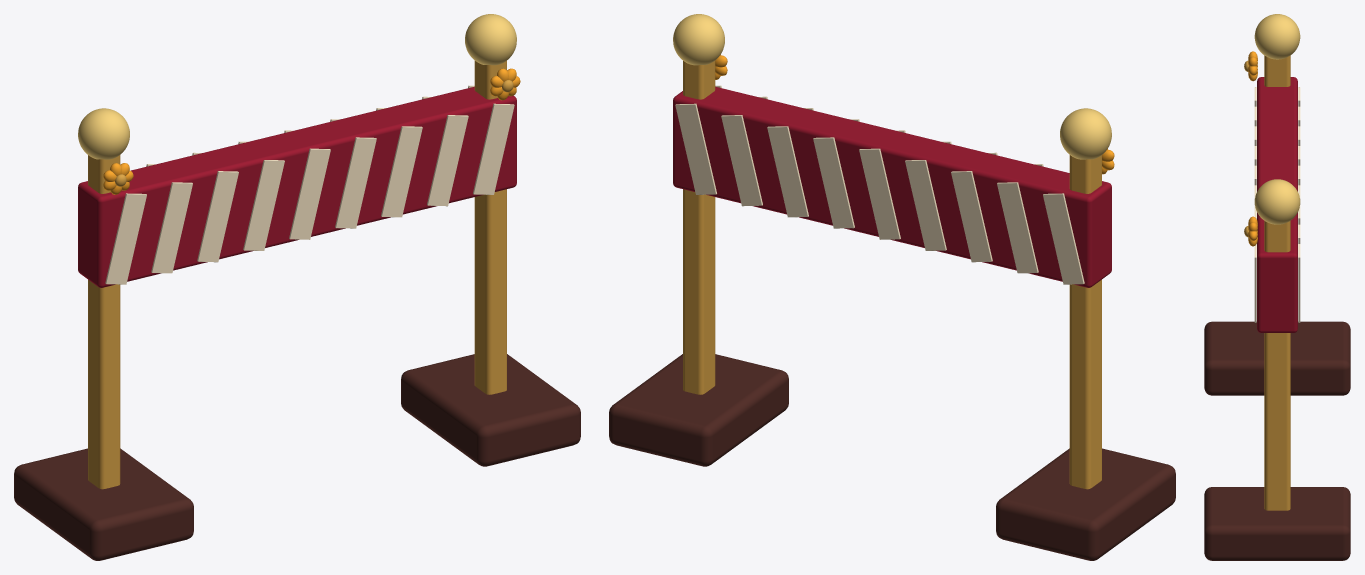
File: slide-barrier.glb
3 views of the same model, side by side, from view 1: azimuth 30°, elevation 25°; view 2: azimuth 150°, elevation 25°; view 3: azimuth 270°, elevation 25° (orthographic). The views are drawn at different scales.
Parts seen in each view (by area): view 1: Crimson woven silk, Deep teak, Warm ivory, Antique golden embroidery, Polished gold edges, Marigold saffron; view 2: Crimson woven silk, Deep teak, Warm ivory, Antique golden embroidery, Polished gold edges; view 3: Deep teak, Crimson woven silk, Antique golden embroidery, Polished gold edges, Warm ivory, Marigold saffron.
Part boxes in pixels (left/top/right/bottom): Crimson woven silk: left=78, top=86, right=516, bottom=287; Deep teak: left=14, top=354, right=580, bottom=560; Warm ivory: left=105, top=85, right=514, bottom=284; Antique golden embroidery: left=88, top=61, right=513, bottom=489; Polished gold edges: left=78, top=14, right=516, bottom=159; Marigold saffron: left=103, top=68, right=520, bottom=194; Crimson woven silk: left=673, top=86, right=1111, bottom=287; Deep teak: left=609, top=354, right=1175, bottom=560; Warm ivory: left=675, top=85, right=1084, bottom=284; Antique golden embroidery: left=683, top=61, right=1101, bottom=489; Polished gold edges: left=673, top=14, right=1111, bottom=159; Deep teak: left=1204, top=321, right=1350, bottom=560; Crimson woven silk: left=1257, top=77, right=1297, bottom=332; Antique golden embroidery: left=1244, top=55, right=1290, bottom=510; Polished gold edges: left=1254, top=14, right=1300, bottom=224; Warm ivory: left=1254, top=87, right=1300, bottom=322; Marigold saffron: left=1248, top=51, right=1257, bottom=246.
Bounding box in the file's own units: 3.04 × 2.44 × 0.9.
